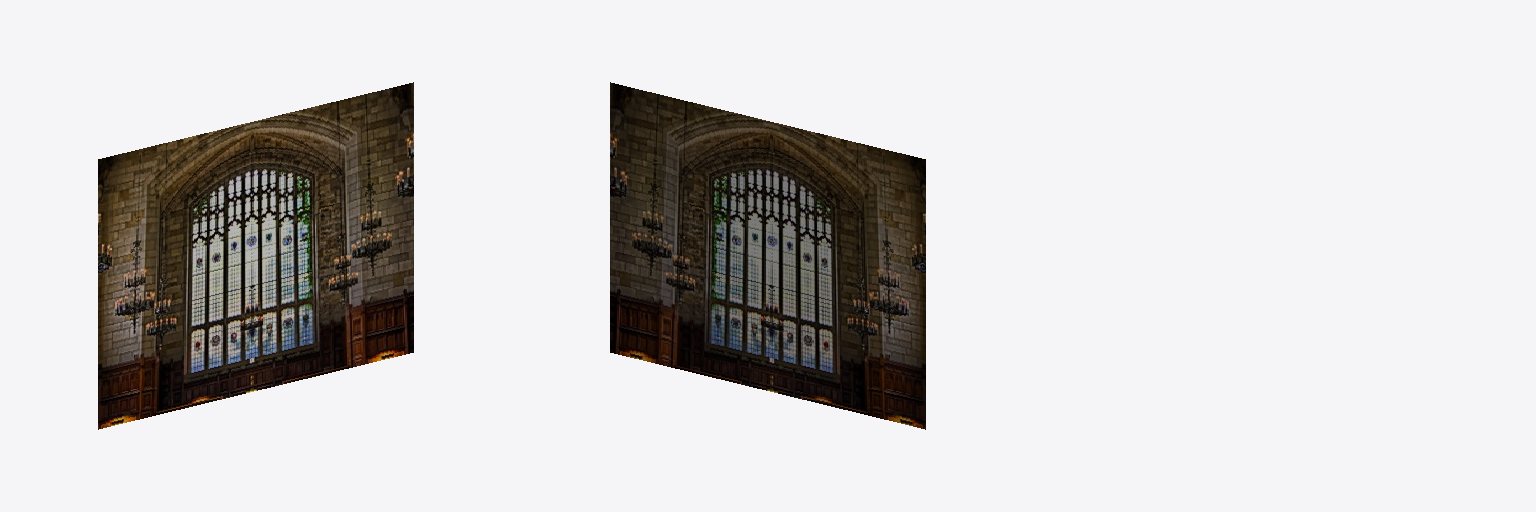
The picture shows the model from 3 angles: view 1: azimuth 30°, elevation 25°; view 2: azimuth 150°, elevation 25°; view 3: azimuth 270°, elevation 25°; orthographic projection.
Visible parts, largest first — view 1: Plane; view 2: Plane; view 3: none.
Part boxes in pixels (x1,y1,x2,y2): Plane: (98,82,413,429); Plane: (610,82,925,429).
Size of the model in its own units: 3.02 by 2.47 by 0.
1 materials, 1 textured.